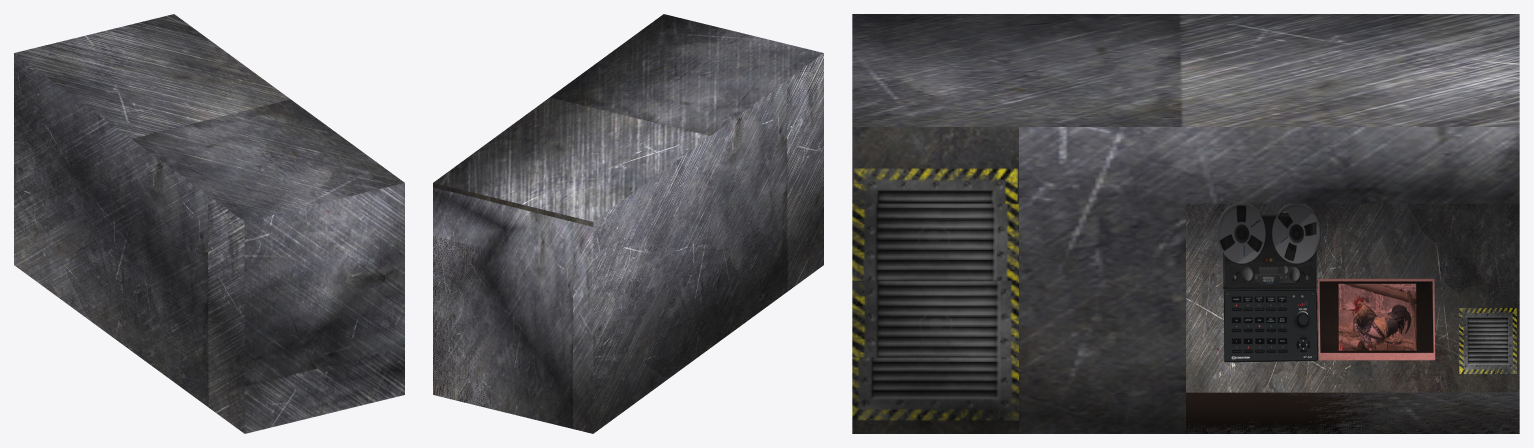
Rendered from plataformaTerra2.fbx.
The picture shows the model from 3 angles, left to right: view 1: azimuth 30°, elevation 25°; view 2: azimuth 150°, elevation 25°; view 3: azimuth 270°, elevation 25°; orthographic projection. The views are drawn at different scales.
Visible parts, largest first — view 1: Cube; view 2: Cube; view 3: Cube.
Boxes of the visible parts, x1,y1,x2,y2 form: Cube: (14, 14, 404, 433); Cube: (433, 14, 823, 433); Cube: (852, 14, 1519, 433).
Size of the model in its own units: 1.08 by 1.37 by 2.69.
Materials: 1 (1 with a texture image).
